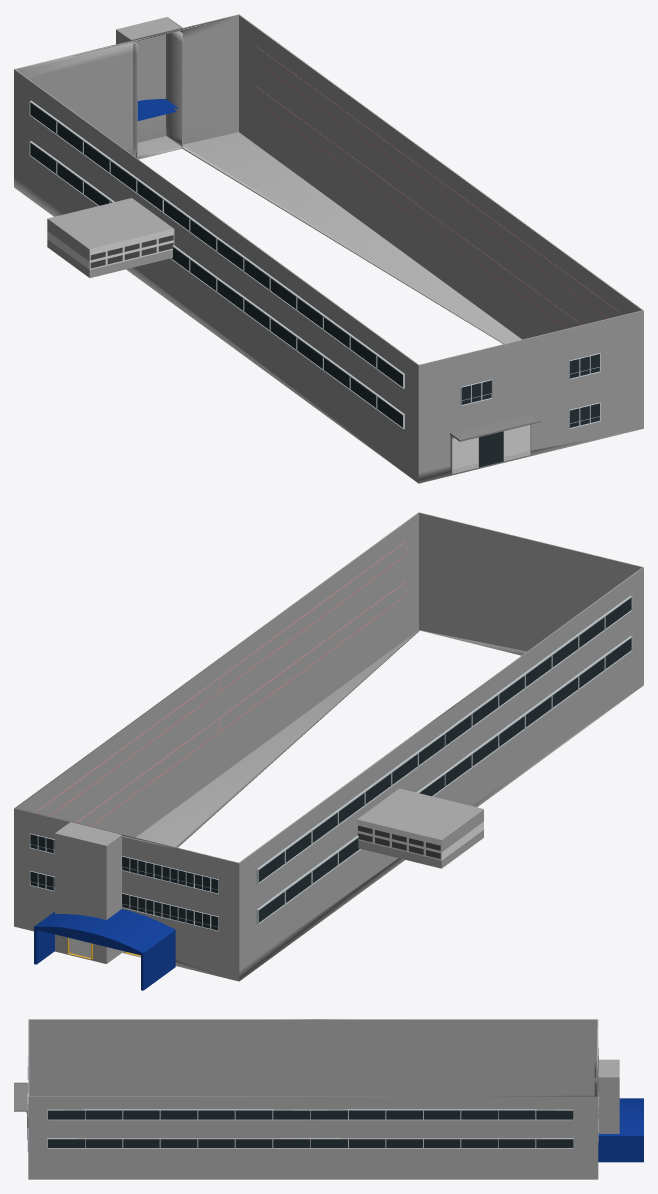
3 views of the same model, one above another, from view 1: azimuth 30°, elevation 25°; view 2: azimuth 150°, elevation 25°; view 3: azimuth 270°, elevation 25° (orthographic). The views are drawn at different scales.
Parts seen in each view (by area): view 1: MainFacA_Ceiling.002; view 2: MainFacA_Ceiling.002; view 3: MainFacA_Ceiling.002.
Part boxes in pixels (x1,y1,x2,y2): MainFacA_Ceiling.002: (14,14,643,483); MainFacA_Ceiling.002: (14,512,643,990); MainFacA_Ceiling.002: (14,1019,643,1179).
Bounding box in the file's own units: 29.98 × 10.97 × 74.57.
2 materials, 2 textured.
